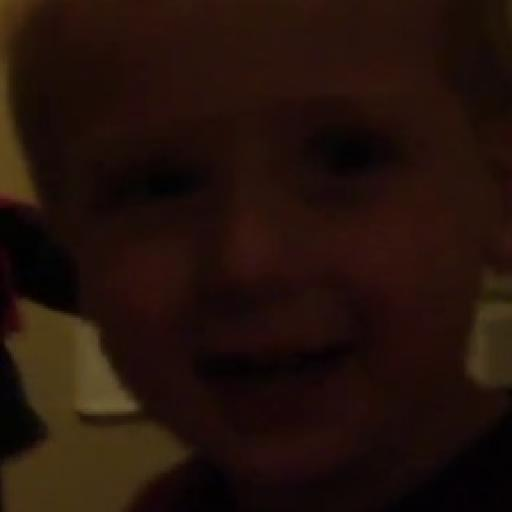Autism: (36, 8, 492, 486)
